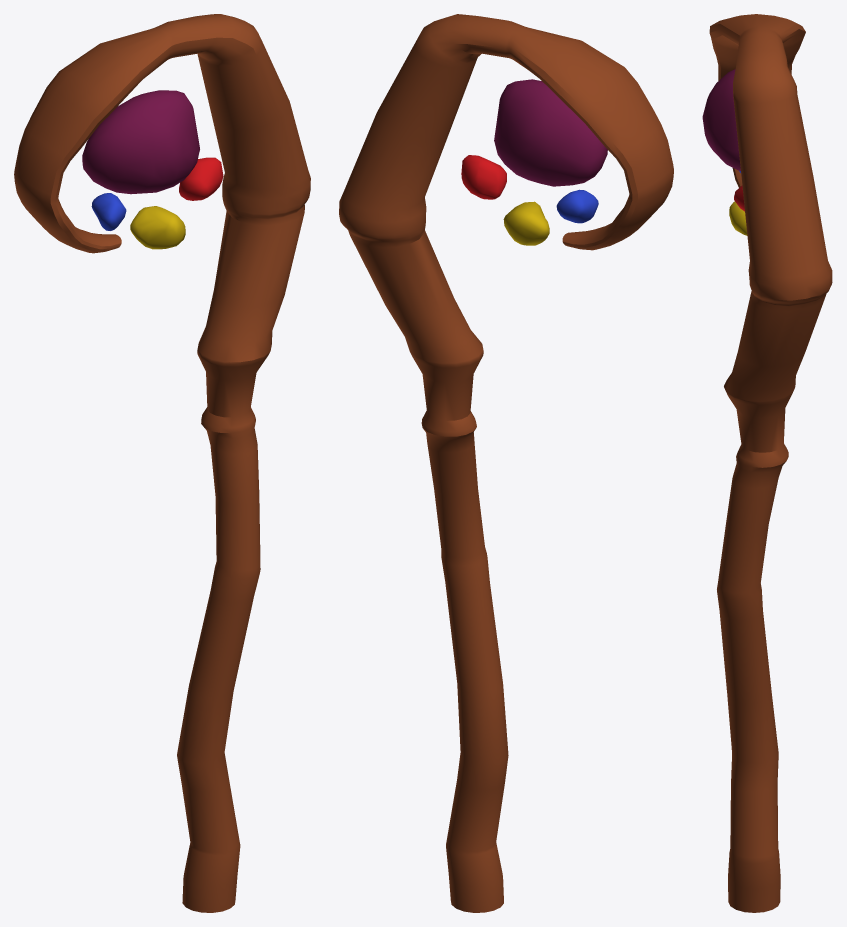
Rendered from Staff.fbx.
3 views of the same model, side by side, from view 1: azimuth 30°, elevation 25°; view 2: azimuth 150°, elevation 25°; view 3: azimuth 270°, elevation 25° (orthographic). The views are drawn at different scales.
Parts seen in each view (by area): view 1: Cylinder.001, Sphere.003, Sphere.004 (×2), Sphere.005; view 2: Cylinder.001, Sphere.003, Sphere.004 (×2), Sphere.005; view 3: Cylinder.001, Sphere.003, Sphere.004.
Part boxes in pixels (bbox=[...]): Cylinder.001: bbox=[14, 14, 310, 912]; Sphere.003: bbox=[82, 90, 199, 194]; Sphere.004 (×2): bbox=[130, 157, 223, 249]; Sphere.005: bbox=[91, 193, 126, 230]; Cylinder.001: bbox=[339, 14, 673, 912]; Sphere.003: bbox=[494, 79, 607, 186]; Sphere.004 (×2): bbox=[461, 155, 549, 245]; Sphere.005: bbox=[556, 189, 598, 223]; Cylinder.001: bbox=[709, 14, 832, 912]; Sphere.003: bbox=[702, 69, 740, 170]; Sphere.004: bbox=[729, 201, 747, 235].
Size of the model in its own units: 89.86 by 253 by 34.8.
